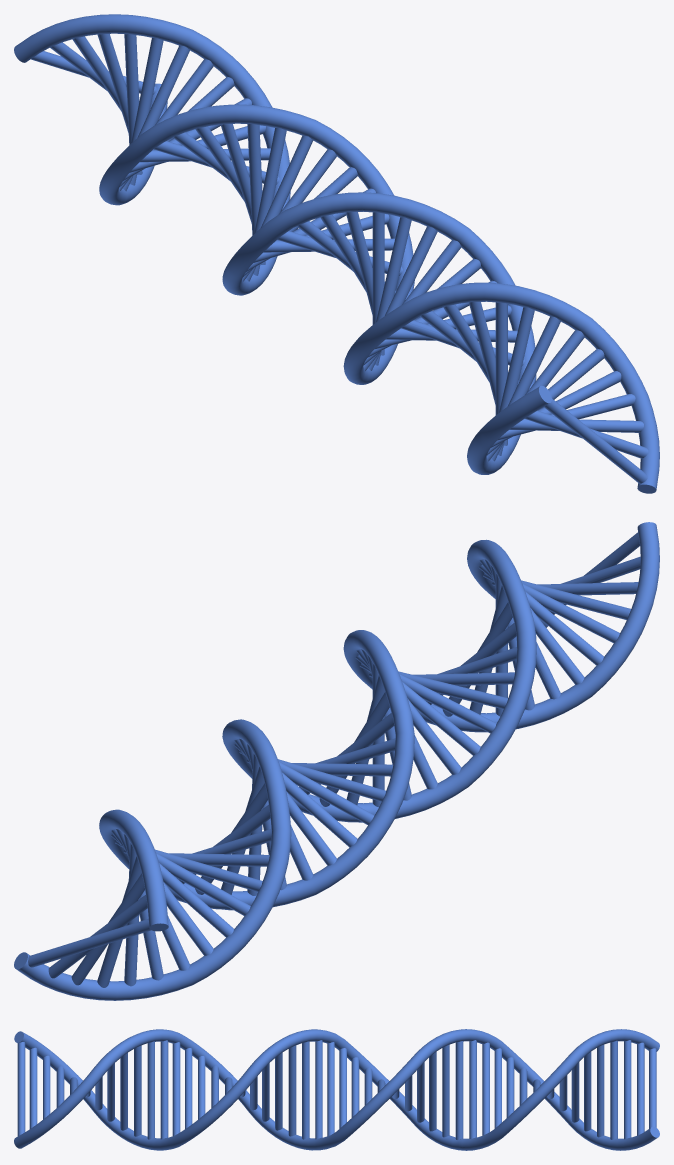
Rendered from dna.fbx.
3 views of the same model, one above another, from view 1: azimuth 30°, elevation 25°; view 2: azimuth 150°, elevation 25°; view 3: azimuth 270°, elevation 25° (orthographic). The views are drawn at different scales.
Visible parts, largest first — view 1: DNA; view 2: DNA; view 3: DNA.
Boxes of the visible parts, x1=… form: DNA: x1=14, y1=14, x2=659, y2=493; DNA: x1=14, y1=522, x2=659, y2=1000; DNA: x1=14, y1=1029, x2=659, y2=1150.
Size of the model in its own units: 1.94 by 1.93 by 10.25.
